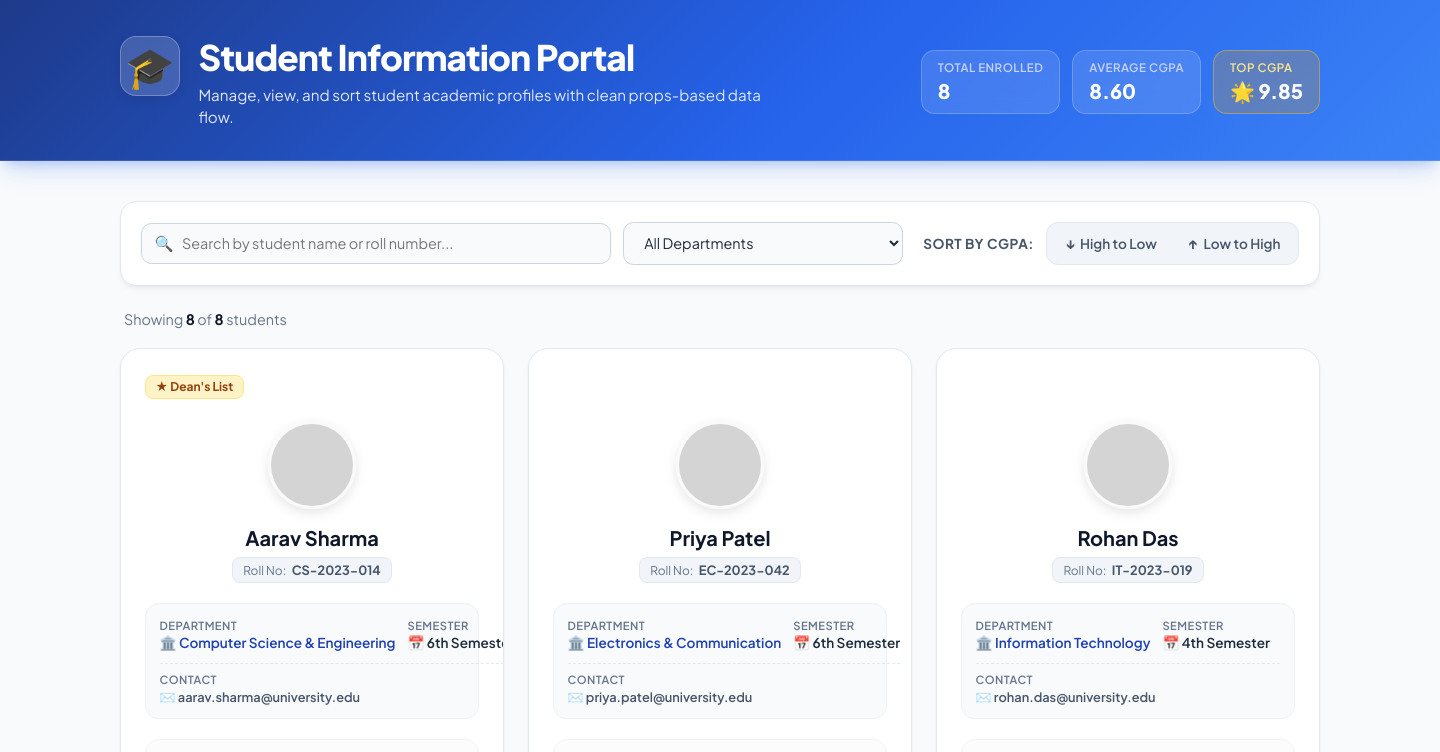
Test: Student Information Portal › sorts students by CGPA Low to High when clicked
Click the button "↑ Low to High" at (1234, 243), box [1174, 227, 1294, 260]
(page scrolled)
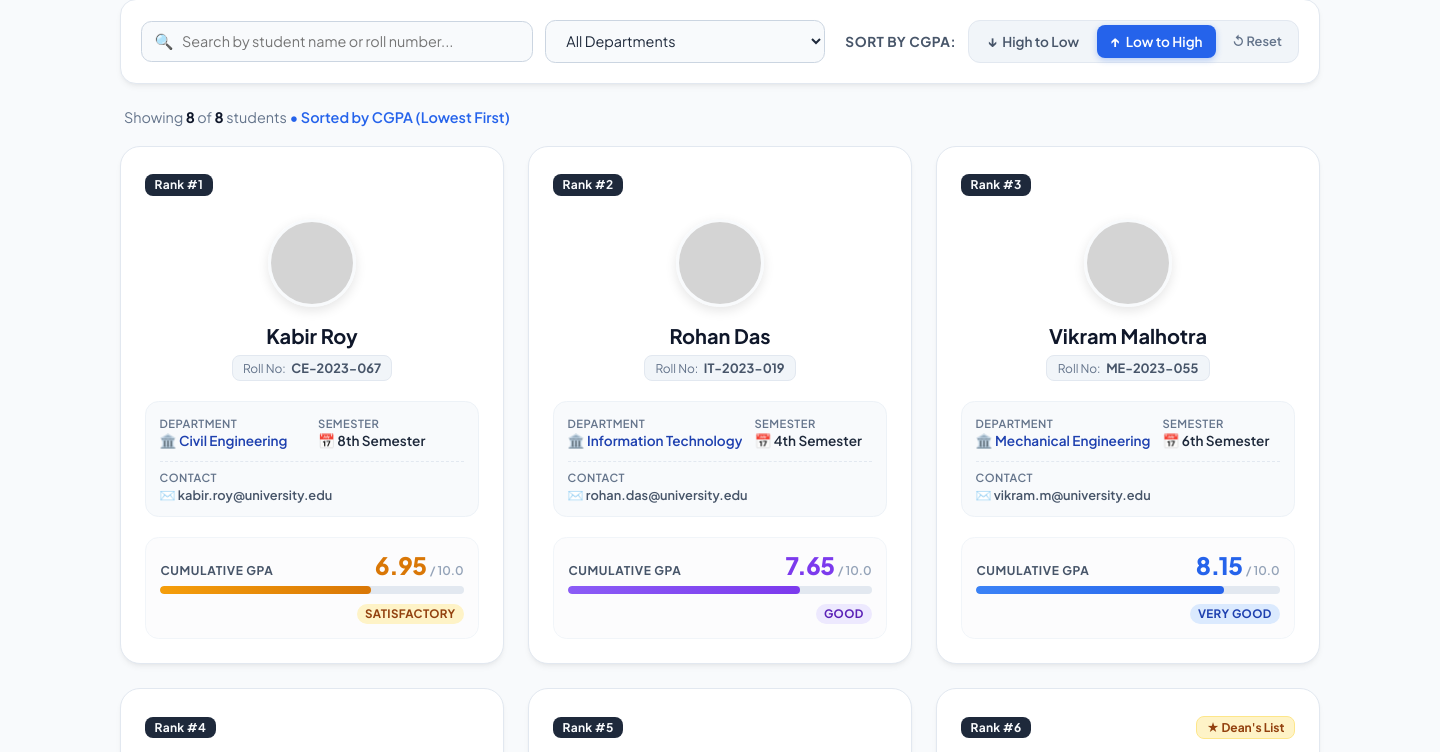
Expected: the text "Kabir Roy" is shown, [266, 323, 358, 348]
Now the text "Rank #1" is shown, box [120, 146, 504, 664]
